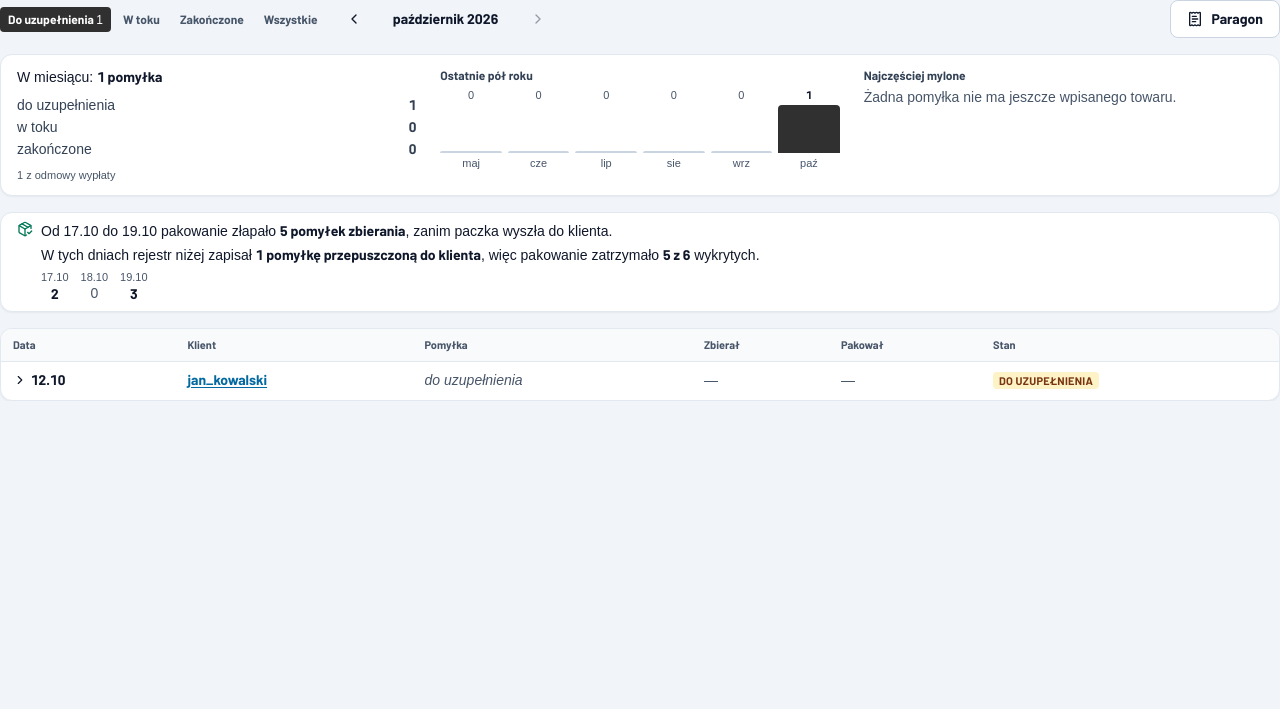
rejestr pomyłek › lista ma sześć kolumn, klient prowadzi do profilu, fakty z kolejki czekają w rozwinięciu
Expected: the column headings read "Data", "Klient", "Pomyłka", "Zbierał", "Pakował", "Stan", in this order, [1,328,176,360]; [176,328,413,360]; [413,328,692,360]; [692,328,829,360]; [829,328,981,360]; [981,328,1279,360]
Expected: the text "wysłany" is not shown
Click the row "jan_kowalski". click: point(640, 380)
box: [1,361,1279,400]
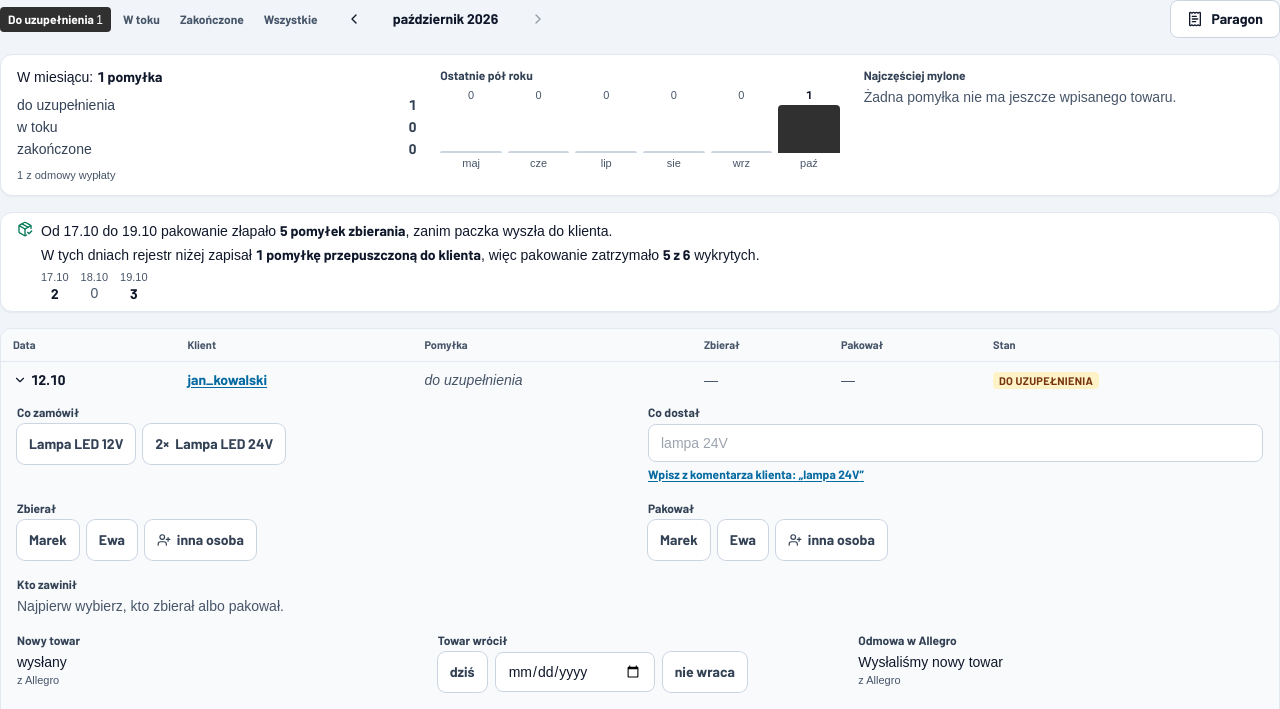
Expected: the text "wysłany" is shown, [17,654,67,670]
Expected: the text "z Allegro" is shown 2 times, [17,674,59,686]; [858,674,900,686]
